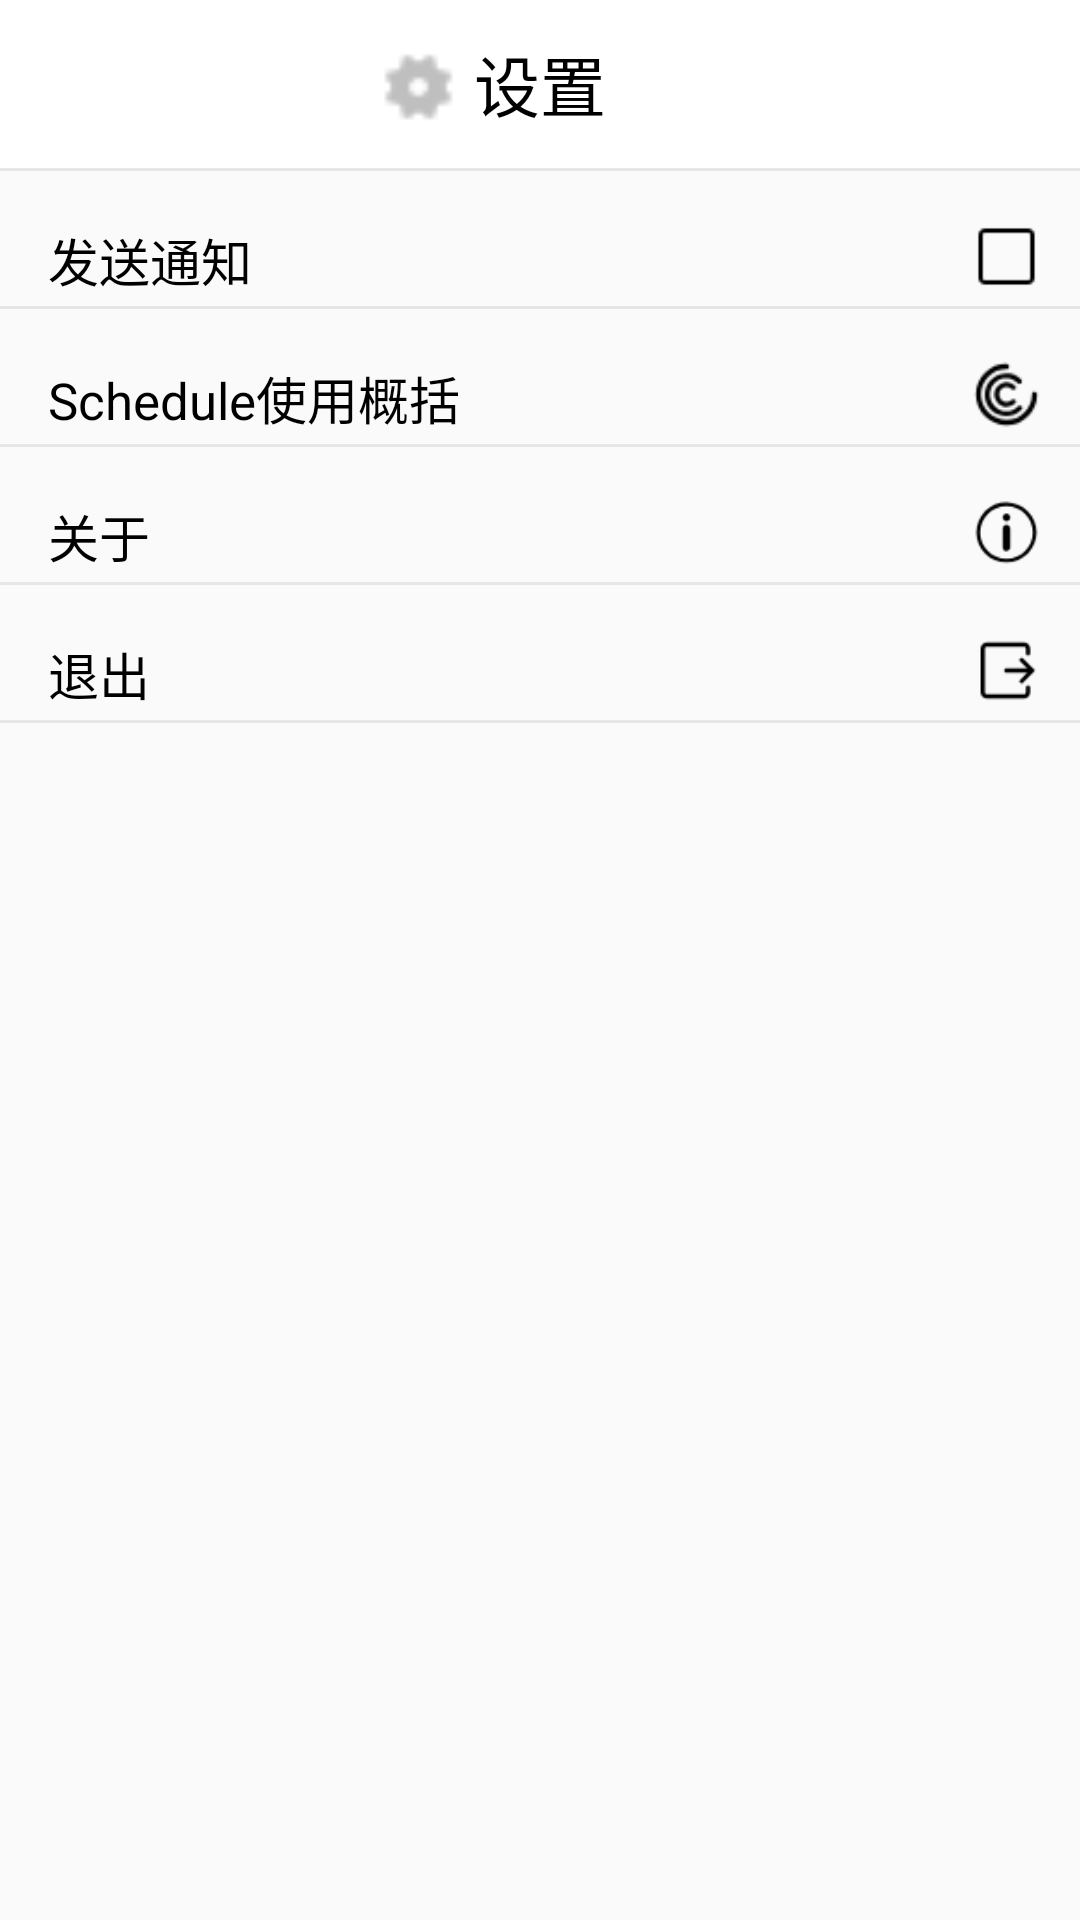

Icons on this 1080×1920 Android screen, each with its box as Rect(x1, y1, x2, y2):
about: Rect(975, 501, 1038, 564)
checkno: Rect(978, 228, 1035, 285)
exit: Rect(980, 641, 1036, 700)
